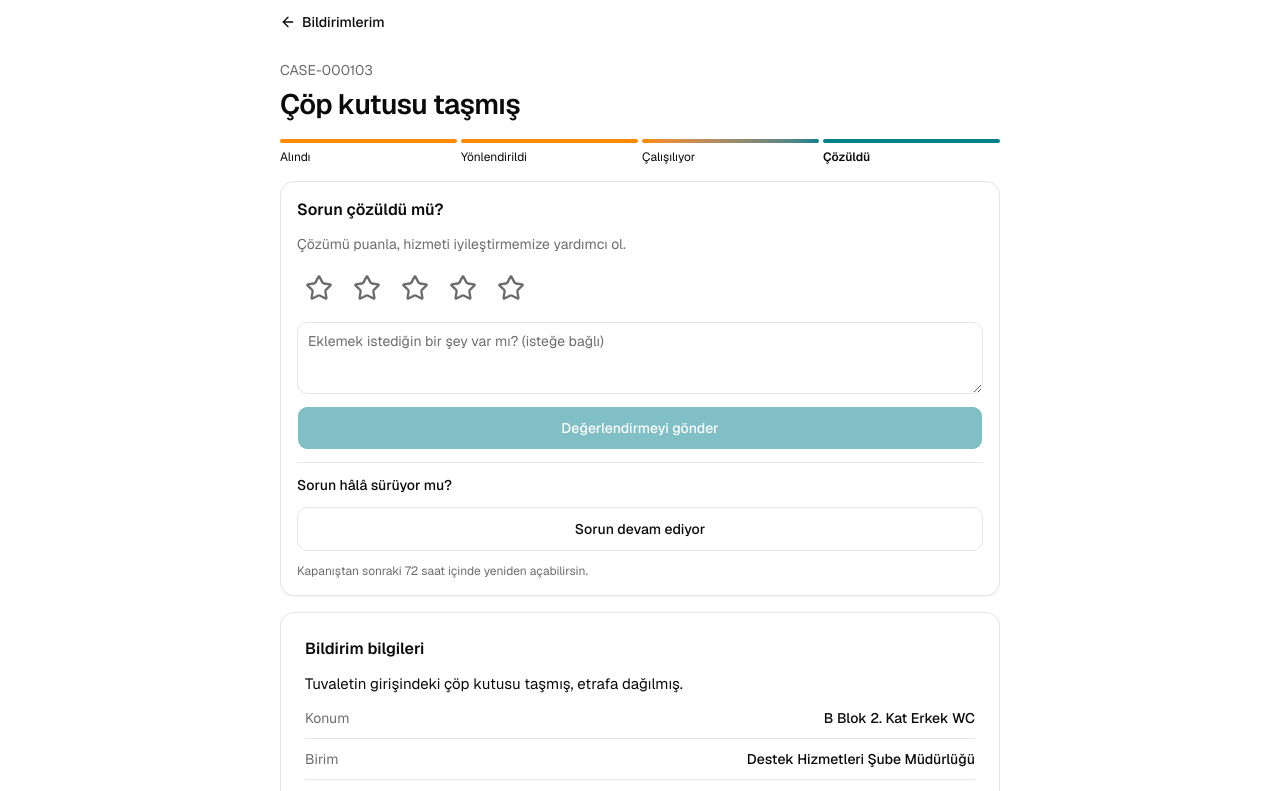
Scenario: reopening a closed case › keeps the dialog open and shows why reopening failed
The width and height of the screenshot is (1280, 791).
Click the button "Sorun devam ediyor" at [640, 529], box [297,507,983,551]
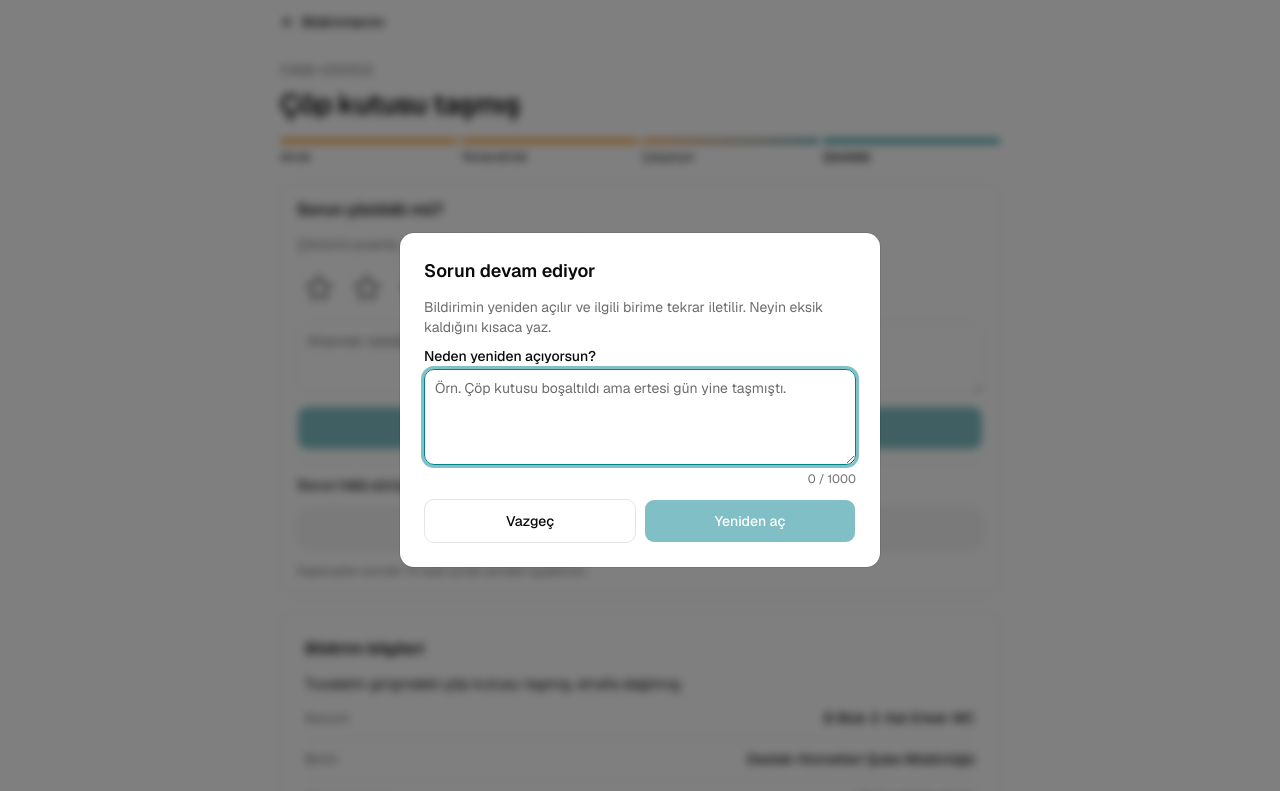
Type "Hâlâ taşıyor." into the text box labelled "Neden yeniden açıyorsun?" at [640, 417], box [424,369,856,465]
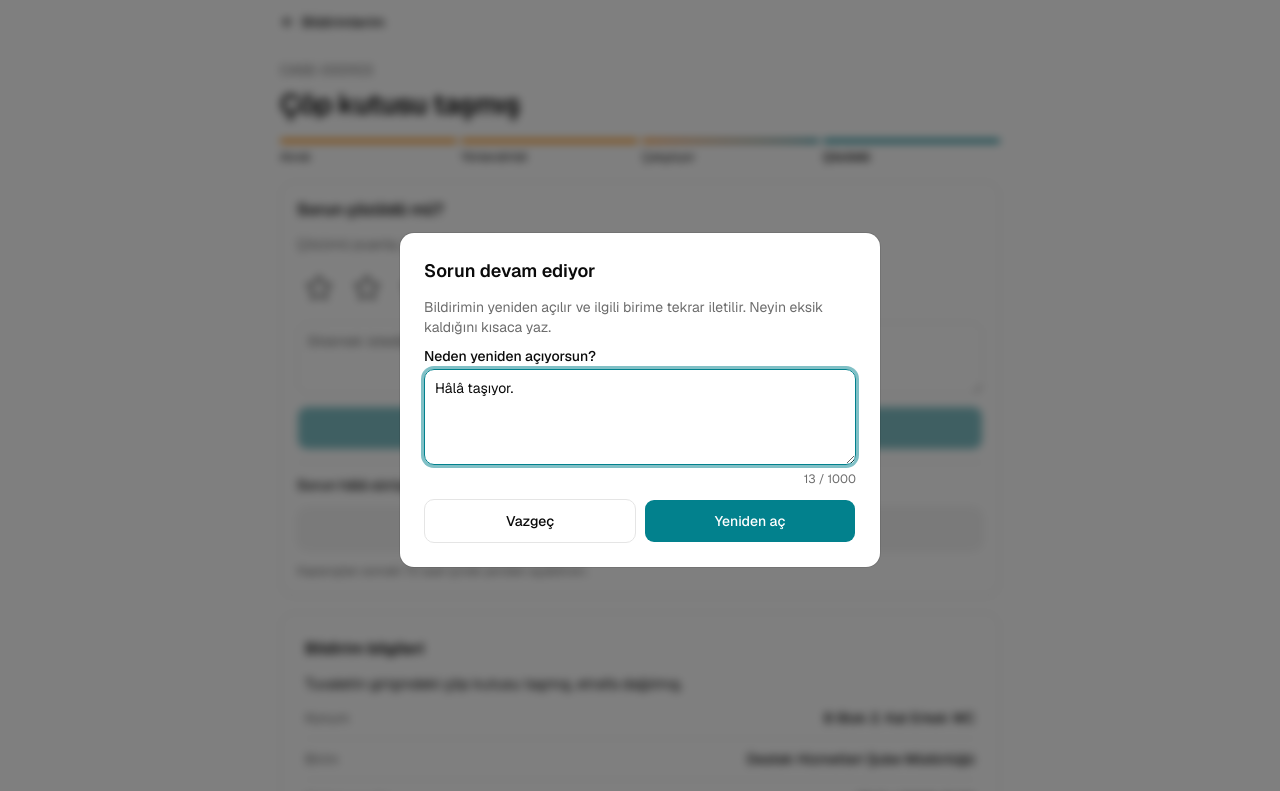
Click the button "Yeniden aç" at [750, 521], box [644,499,856,543]
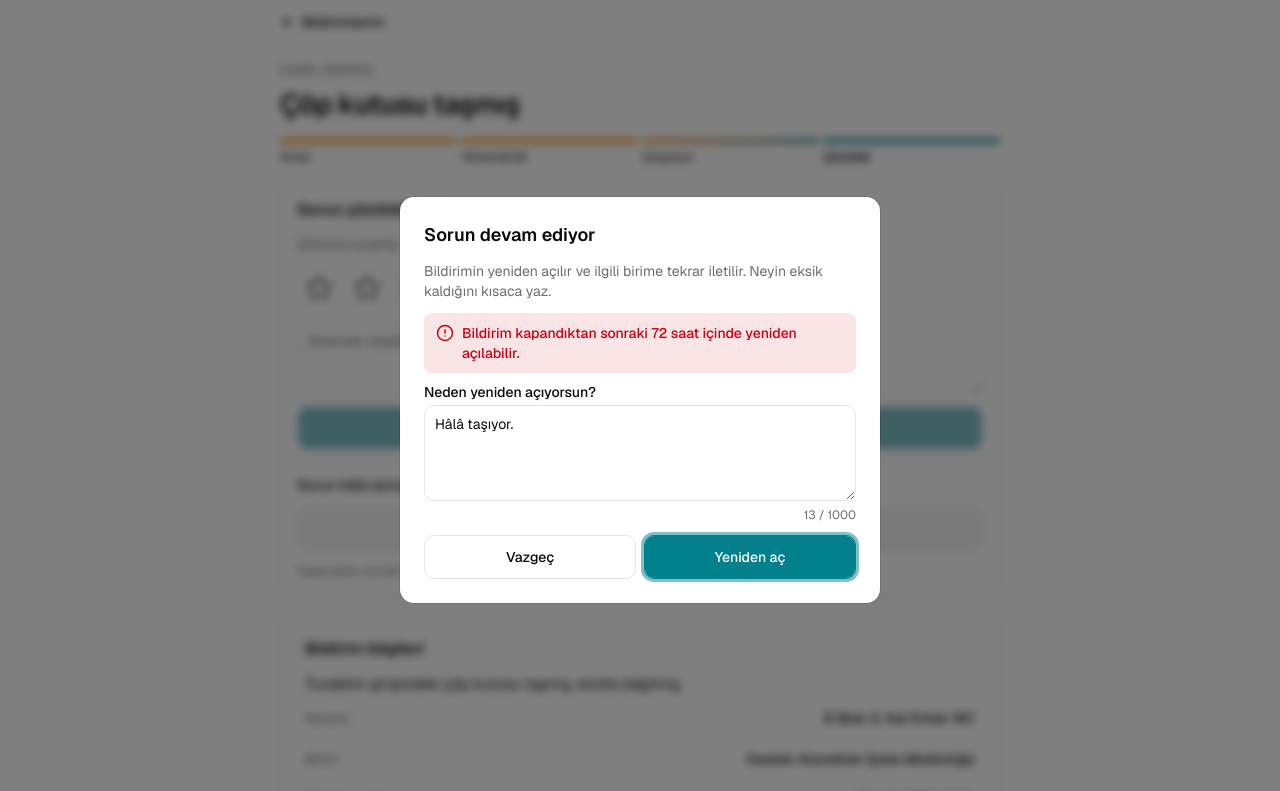
Result: the message shows "72 saat içinde yeniden açılabilir." at [462,324,797,362]
